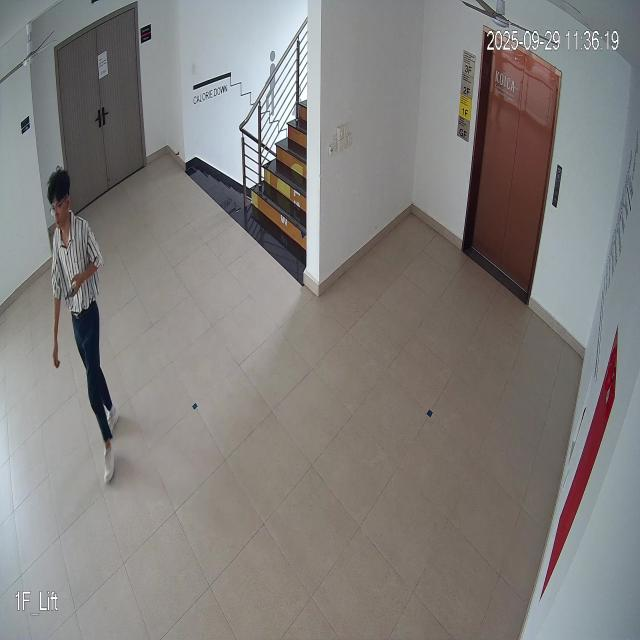face: (49, 168, 71, 236)
